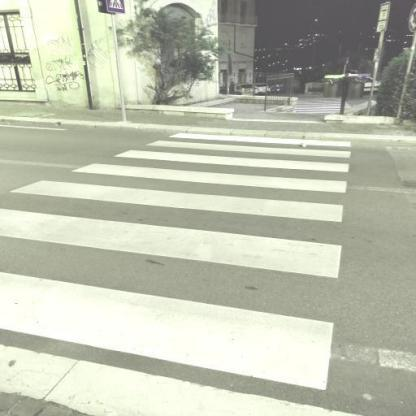crosswalk: (6, 160, 353, 226)
